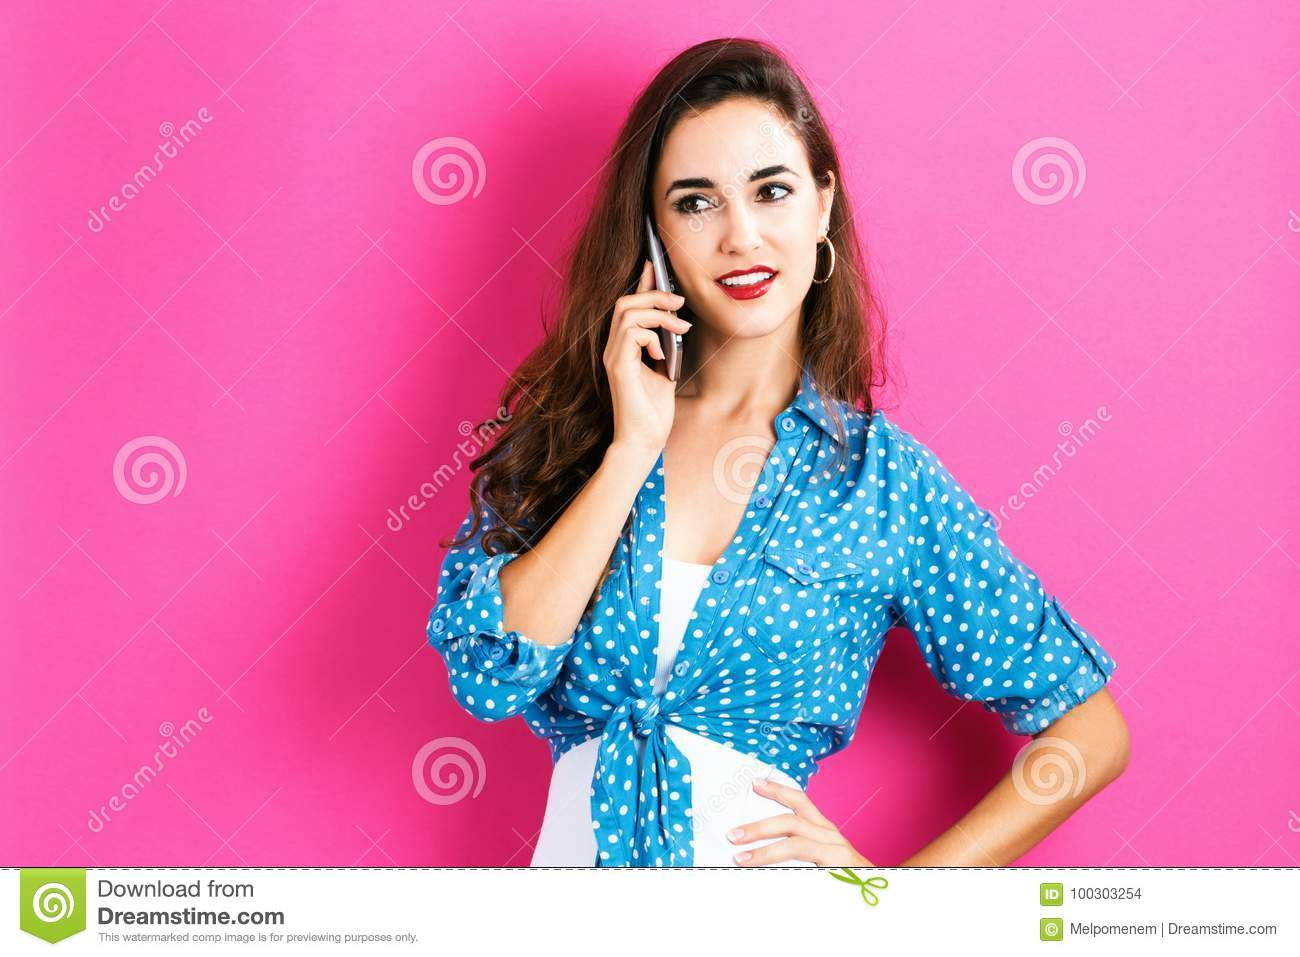phone: (634, 210, 685, 385)
talk: (605, 156, 810, 468)
